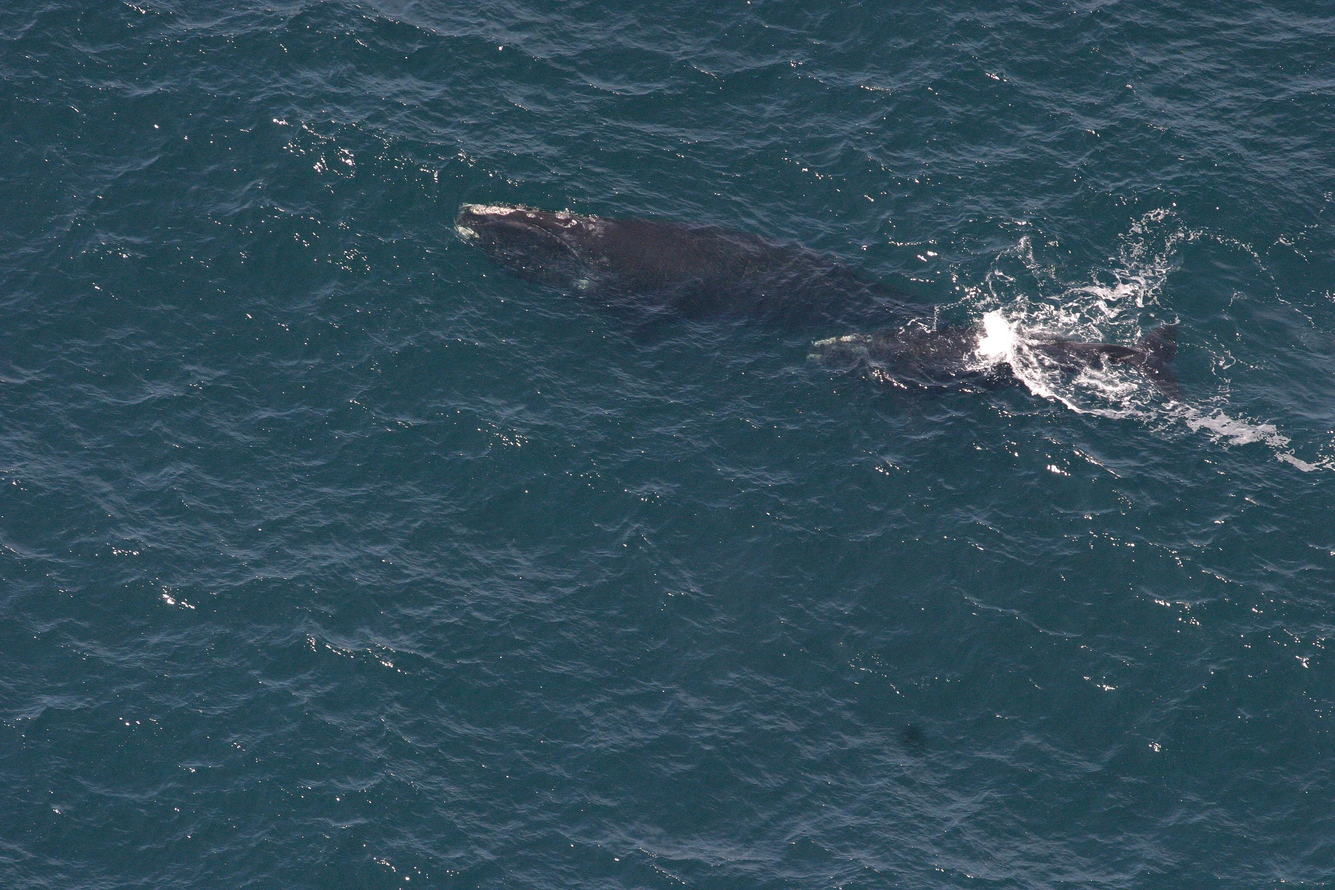whale: (445, 189, 1220, 466)
